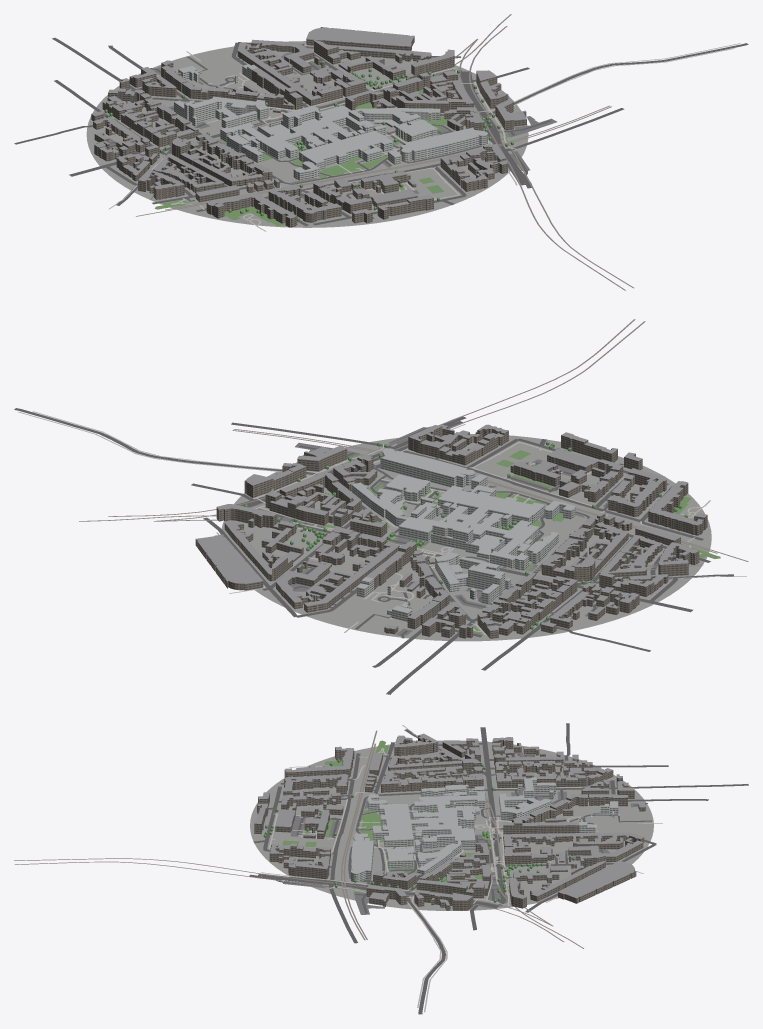
Rendered from klinikum_dortmund_osm.glb.
3 renders of one model, top to bottom at view 1: azimuth 30°, elevation 25°; view 2: azimuth 150°, elevation 25°; view 3: azimuth 270°, elevation 25°, orthographic. The views are drawn at different scales.
Parts seen in each view (by area): view 1: City_Buildings, Ground, Streets, Tram, Green, KLINIK_Haus_C, KLINIK_53259602, Parking, Trees, KLINIK_Hautklinik, KLINIK_Pränatalmedizin, KLINIK_Klinik_für_Kinder-_und_Jugendmedizin (+1 smaller); view 2: City_Buildings, Ground, Streets, Tram, KLINIK_53259602, KLINIK_Haus_C, Parking, Green, Trees, KLINIK_Pränatalmedizin, KLINIK_Klinik_für_Kinder-_und_Jugendmedizin, KLINIK_Hautklinik (+1 smaller); view 3: City_Buildings, Ground, Streets, Tram, Parking, KLINIK_Haus_C, Green, KLINIK_53259602, Trees, KLINIK_Hautklinik, KLINIK_Pränatalmedizin.
Boxes of the visible parts, bbox=[...] form: City_Buildings: bbox=[91, 27, 526, 227]; Ground: bbox=[86, 41, 528, 227]; Streets: bbox=[14, 31, 748, 231]; Tram: bbox=[136, 14, 633, 290]; Green: bbox=[155, 60, 508, 226]; KLINIK_Haus_C: bbox=[299, 130, 393, 169]; KLINIK_53259602: bbox=[400, 127, 487, 162]; Parking: bbox=[108, 52, 556, 199]; Trees: bbox=[104, 61, 513, 220]; KLINIK_Hautklinik: bbox=[269, 128, 324, 158]; KLINIK_Pränatalmedizin: bbox=[395, 119, 437, 141]; KLINIK_Klinik_für_Kinder-_und_Jugendmedizin: bbox=[184, 97, 221, 122]; City_Buildings: bbox=[195, 424, 707, 638]; Ground: bbox=[221, 434, 711, 641]; Streets: bbox=[14, 408, 746, 694]; Tram: bbox=[79, 319, 748, 572]; KLINIK_53259602: bbox=[380, 448, 474, 487]; KLINIK_Haus_C: bbox=[438, 485, 544, 524]; Parking: bbox=[257, 427, 608, 635]; Green: bbox=[303, 450, 720, 635]; Trees: bbox=[244, 441, 687, 629]; KLINIK_Pränatalmedizin: bbox=[386, 474, 430, 501]; KLINIK_Klinik_für_Kinder-_und_Jugendmedizin: bbox=[468, 565, 504, 595]; KLINIK_Hautklinik: bbox=[474, 512, 531, 545]; City_Buildings: bbox=[254, 733, 645, 910]; Ground: bbox=[250, 740, 653, 910]; Streets: bbox=[249, 723, 748, 1014]; Tram: bbox=[14, 730, 583, 948]; Parking: bbox=[283, 752, 637, 914]; KLINIK_Haus_C: bbox=[379, 804, 413, 847]; Green: bbox=[282, 740, 610, 893]; KLINIK_53259602: bbox=[351, 836, 373, 882]; Trees: bbox=[263, 759, 574, 902]; KLINIK_Hautklinik: bbox=[412, 800, 451, 819]; KLINIK_Pränatalmedizin: bbox=[386, 848, 413, 868].
Bounding box in the file's own units: 1193 × 27.22 × 1273.
11 materials, 2 textured.
